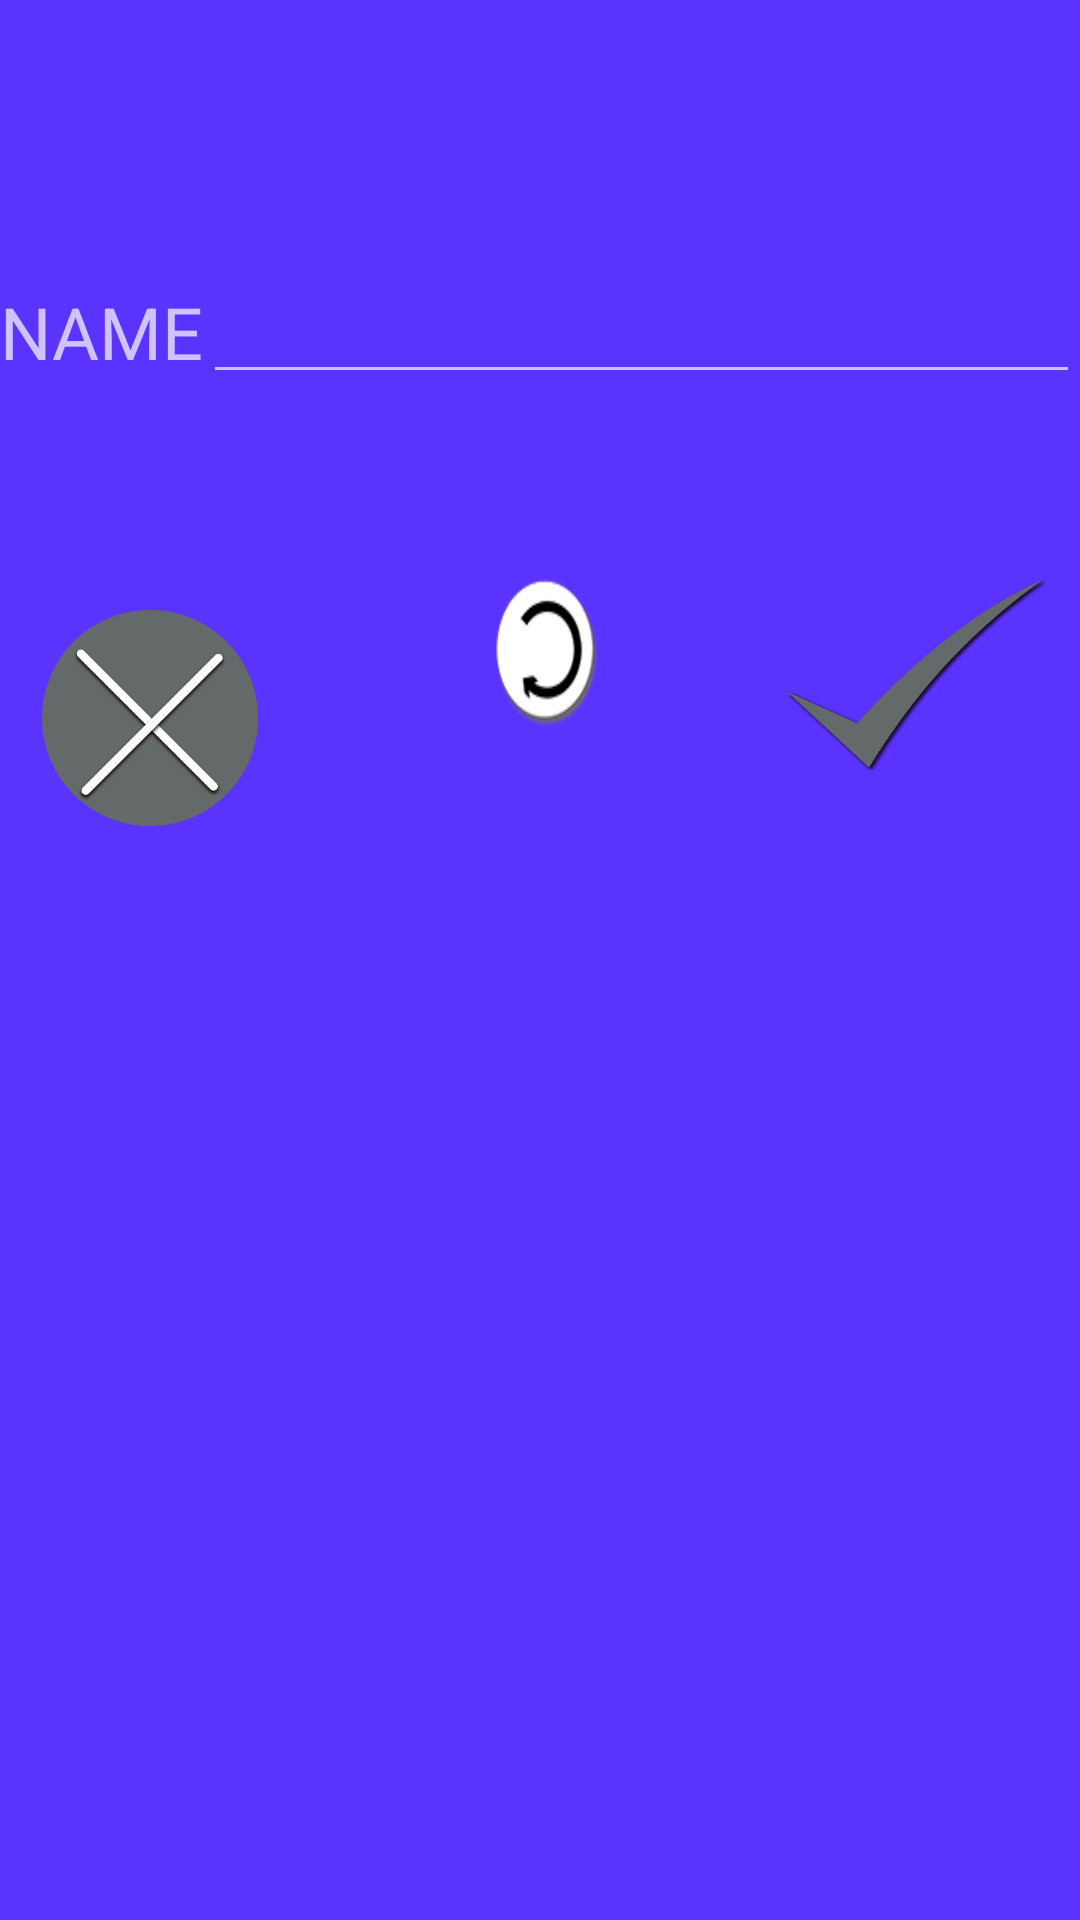

Point at icon controls on the screen. Image size 1080px x 1920px, points as (x=x, y=y).
cancel: (x=150, y=718)
retry: (x=546, y=652)
tick: (x=916, y=675)
